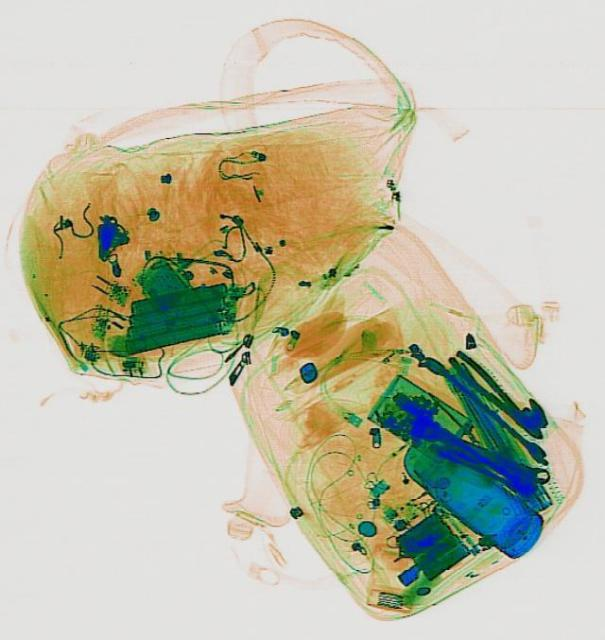Pliers: (441, 343, 548, 445)
